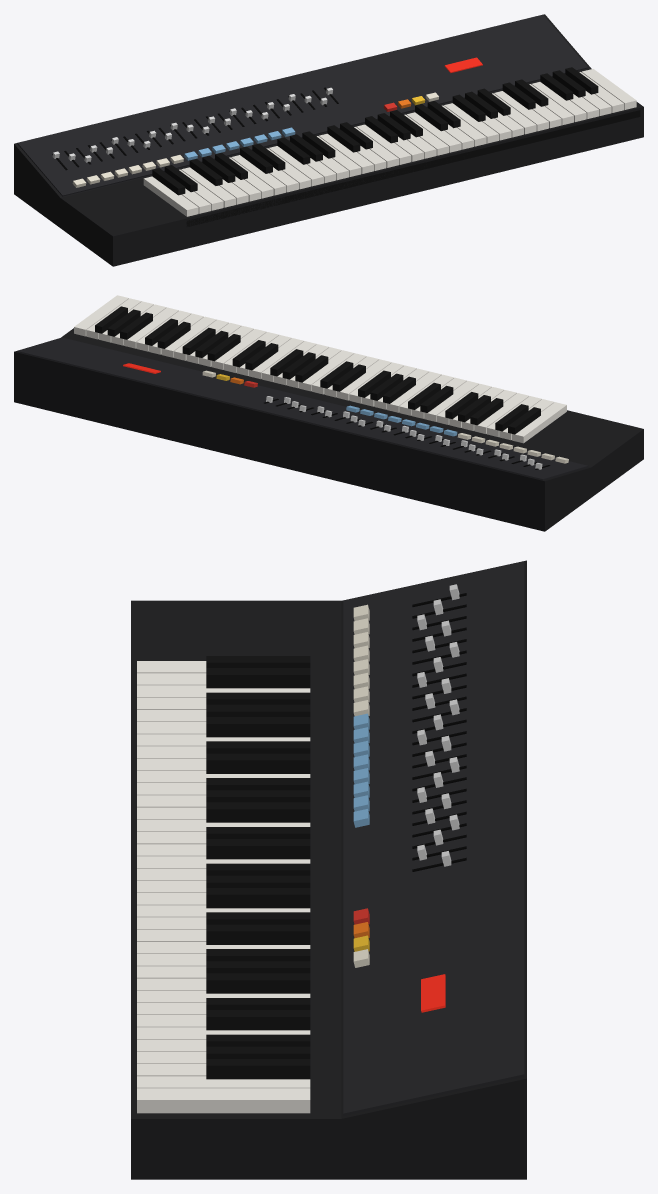
File: juno-106.glb
3 renders of one model, top to bottom at view 1: azimuth 30°, elevation 25°; view 2: azimuth 150°, elevation 25°; view 3: azimuth 270°, elevation 25°, orthographic. The views are drawn at different scales.
Parts seen in each view (by area): view 1: Juno-106; view 2: Juno-106; view 3: Juno-106.
Part boxes in pixels (<box>): Juno-106: <box>14,14,643,266</box>; Juno-106: <box>14,295,643,531</box>; Juno-106: <box>131,560,526,1179</box>.
Size of the model in its own units: 0.99 by 0.0915 by 0.32.
